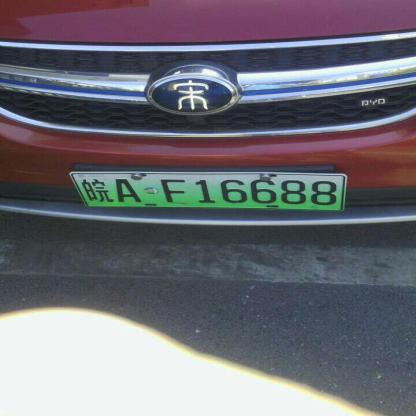lp: (70, 173, 343, 209)
